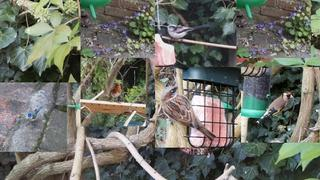blue tit: (25, 106, 43, 129)
goldfinch: (255, 91, 295, 126)
long tailed tit: (166, 24, 212, 42)
robin: (107, 82, 122, 103)
sparrow: (161, 86, 217, 142)
